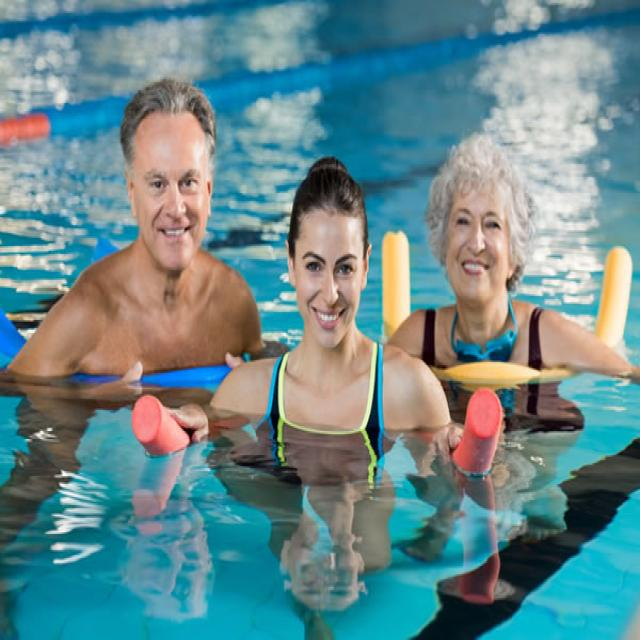swimming: (43, 79, 269, 458), (409, 48, 624, 434), (236, 84, 425, 493)
